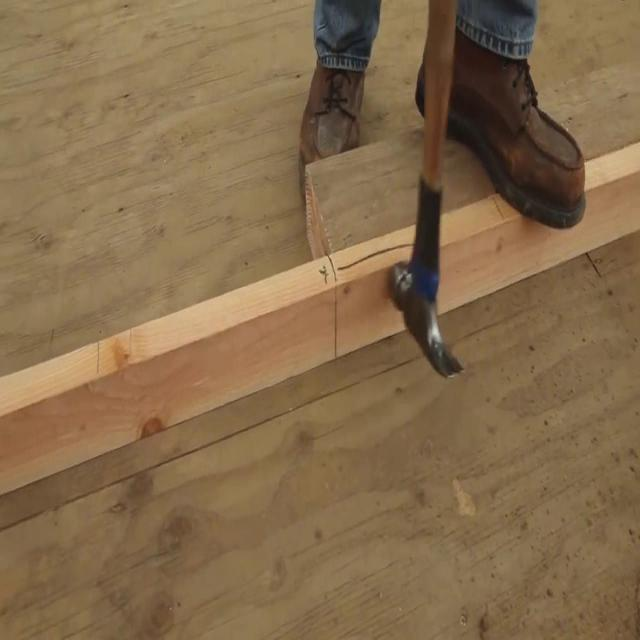hammer: (389, 0, 465, 382)
